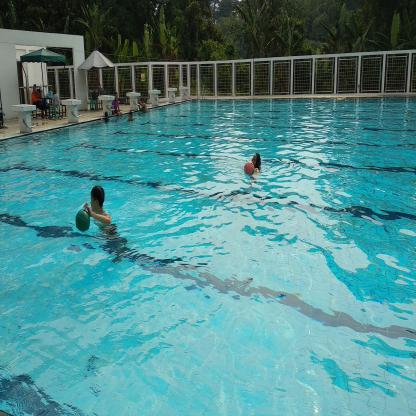green_buoy: (74, 207, 93, 234)
red_buoy: (243, 161, 254, 175)
